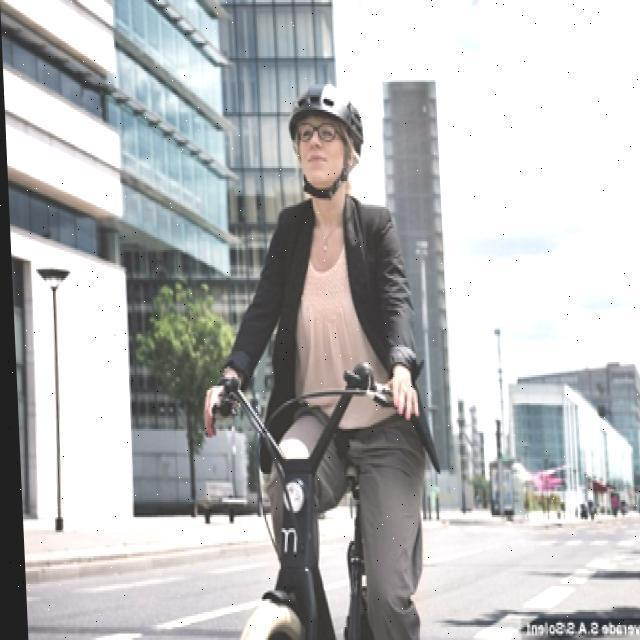Helmet: (268, 74, 376, 200)
